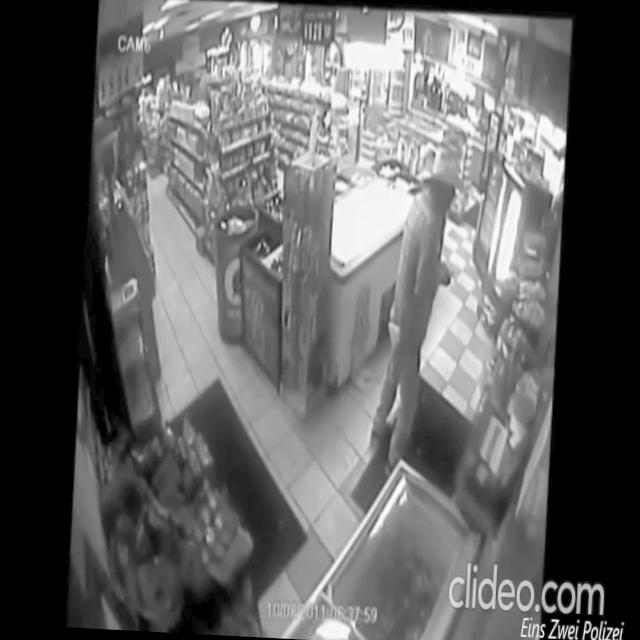person: (366, 142, 463, 482)
